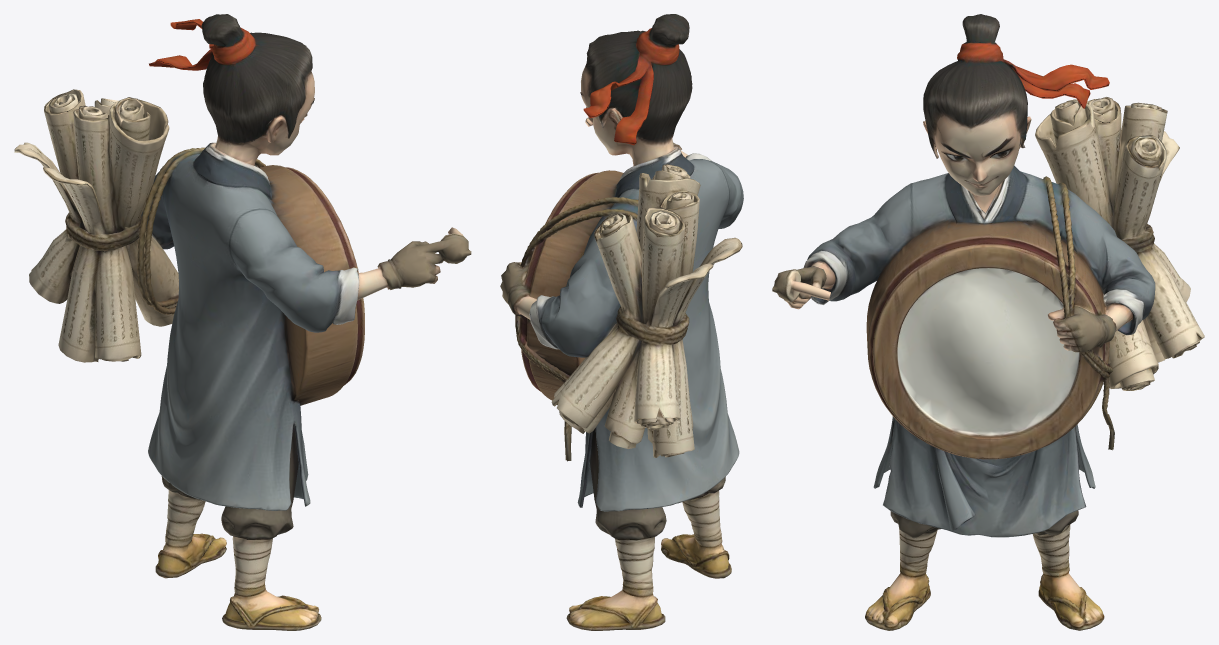
The model's file is p_b2p_zhujinzhen_young.glb.
3 views of the same model, side by side, from view 1: azimuth 30°, elevation 25°; view 2: azimuth 150°, elevation 25°; view 3: azimuth 270°, elevation 25° (orthographic). The views are drawn at different scales.
Parts seen in each view (by area): view 1: tripo_node_572dc96c-5394-461c-9d00-40a7dae1231f; view 2: tripo_node_572dc96c-5394-461c-9d00-40a7dae1231f; view 3: tripo_node_572dc96c-5394-461c-9d00-40a7dae1231f.
Part boxes in pixels (x1,y1,x2,y2): tripo_node_572dc96c-5394-461c-9d00-40a7dae1231f: [14, 14, 471, 630]; tripo_node_572dc96c-5394-461c-9d00-40a7dae1231f: [500, 14, 743, 630]; tripo_node_572dc96c-5394-461c-9d00-40a7dae1231f: [772, 14, 1204, 630].
Bounding box in the file's own units: 0.496 × 0.9798 × 0.6509.
Materials: 1 (1 with a texture image).
